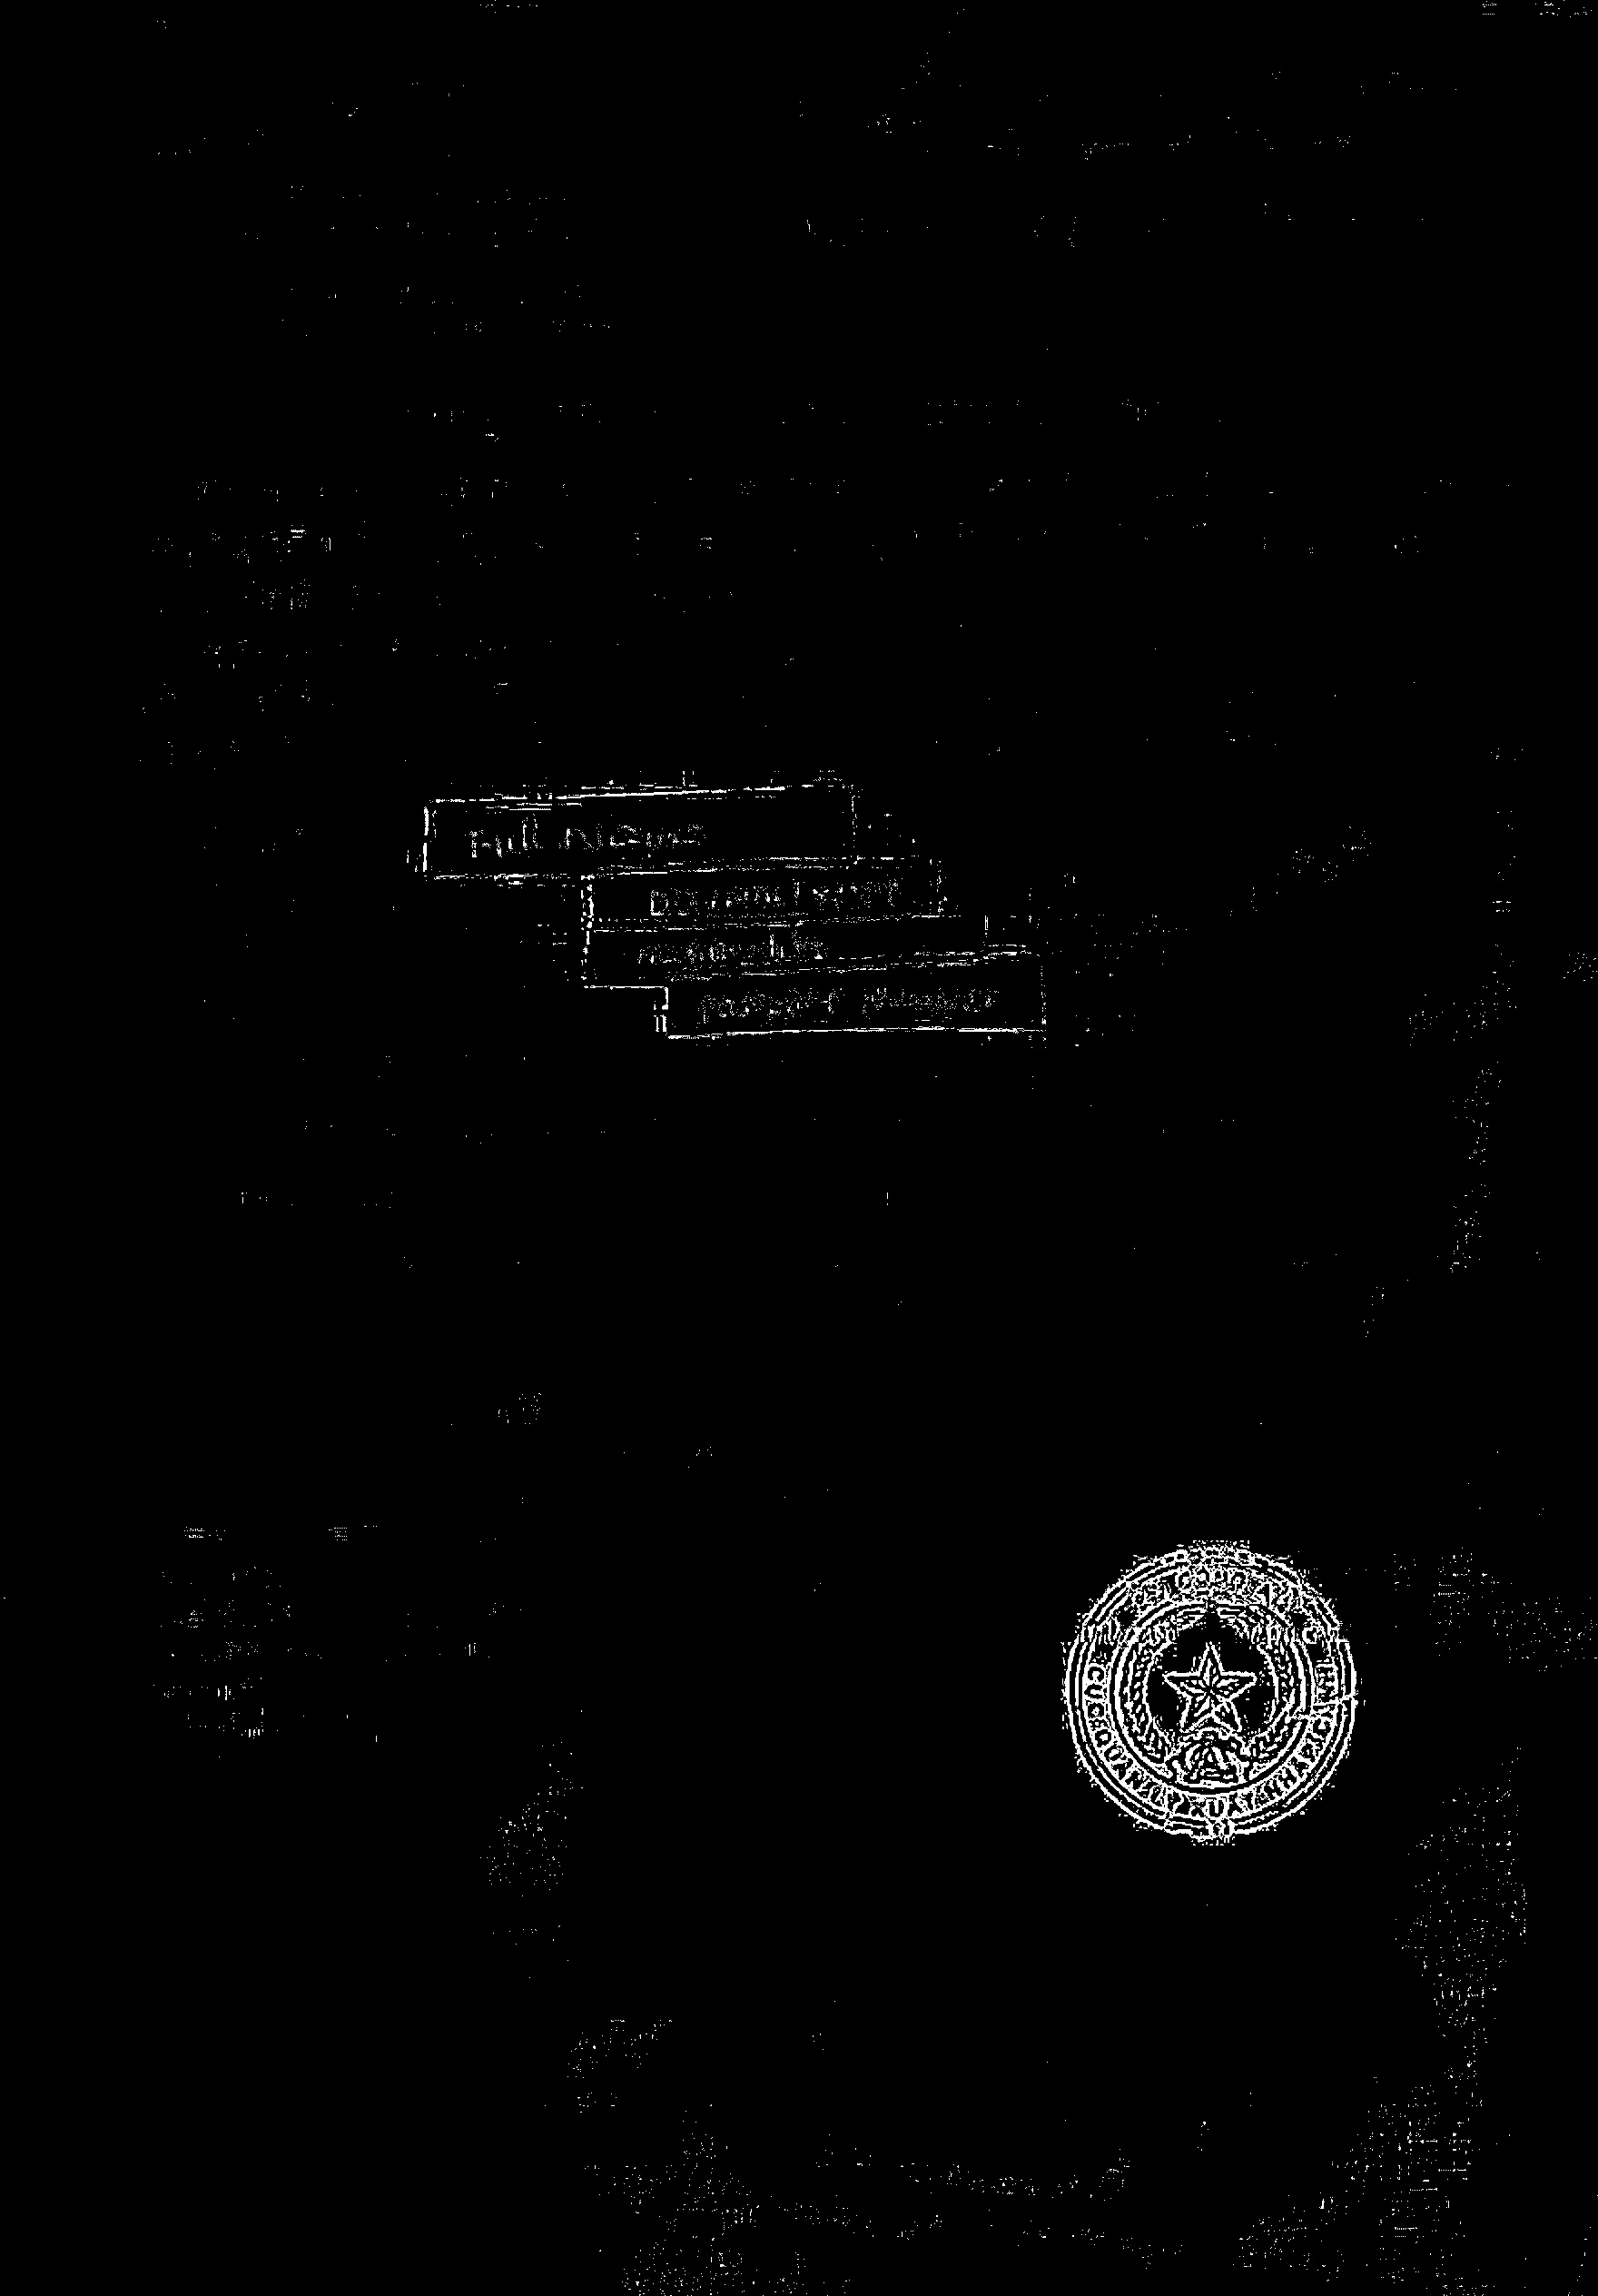Round chop: (1069, 1551, 1371, 1837)
